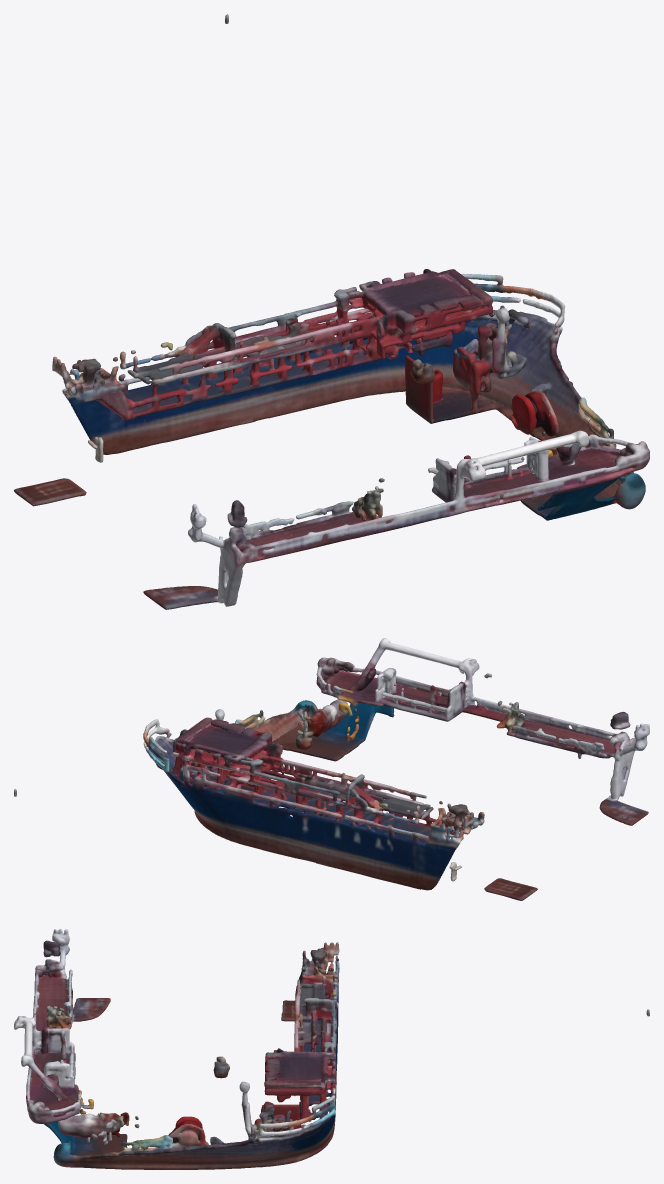
File: multi_logit_mean_sm0.8_2026-05-06T105809.532.glb
The picture shows the model from 3 angles, top to bottom: view 1: azimuth 30°, elevation 25°; view 2: azimuth 150°, elevation 25°; view 3: azimuth 270°, elevation 25°; orthographic projection. The views are drawn at different scales.
Parts seen in each view (by area): view 1: world; view 2: world; view 3: world.
Part boxes in pixels (x1,y1,x2,y2): world: (14,14,649,609); world: (14,638,649,900); world: (14,929,649,1169).
Size of the model in its own units: 0.2984 by 0.1128 by 0.4218.
1 material, 1 textured.
